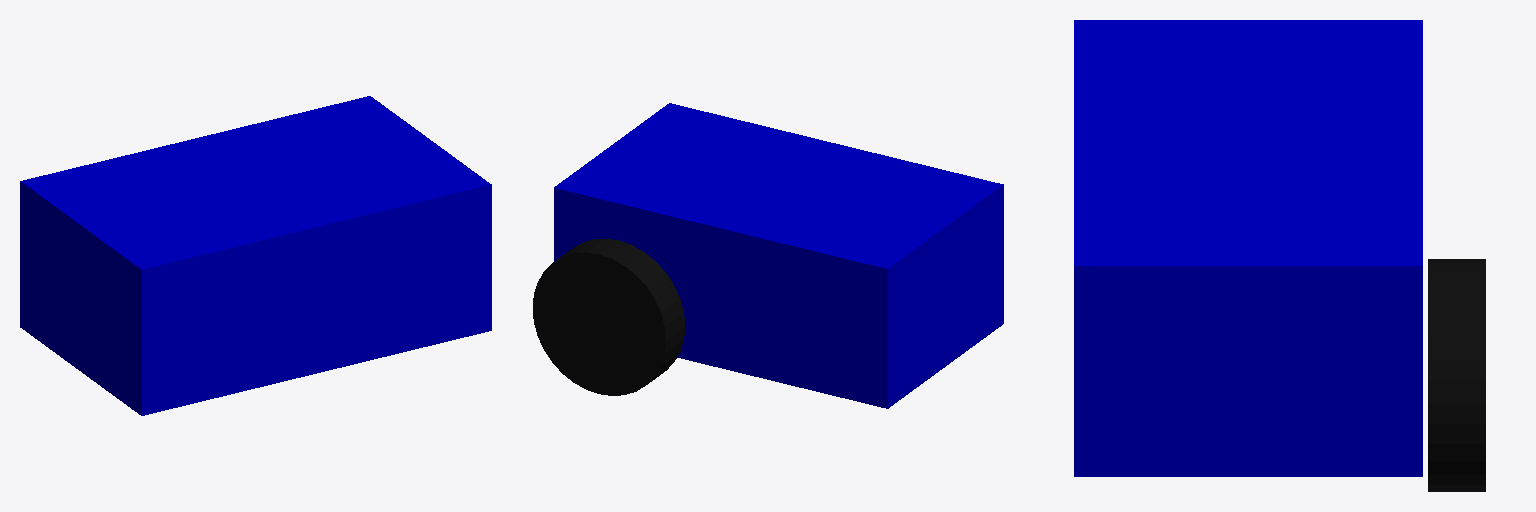
URDF robot description (pedagogical_robot):
<?xml version="1.0"?>
<!-- The root element of any URDF file is always <robot> with a unique name attribute -->
<robot name="pedagogical_robot">

  <!-- ==================================================================== -->
  <!-- 1. THE ROOT LINK (base_link)                                         -->
  <!-- Best Practice: Always have a root link with no parent.               -->
  <!-- ==================================================================== -->
  <link name="base_link">
    <!-- Visual: What the user sees in Rviz or Gazebo -->
    <visual>
      <origin xyz="0 0 0" rpy="0 0 0" /> <!-- Local offset of visual geometry -->
      <geometry>
        <box size="0.5 0.3 0.2" />       <!-- Simple box: length(X), width(Y), height(Z) -->
      </geometry>
      <material name="blue">
        <color rgba="0.0 0.0 0.8 1.0" /> <!-- RGBA color format (0.0 to 1.0 range) -->
      </material>
    </visual>

    <!-- Collision: Used by physics engines for contacts and obstacles -->
    <!-- Pro-Tip: Keep collision shapes simpler than visual meshes for performance! -->
    <collision>
      <origin xyz="0 0 0" rpy="0 0 0" />
      <geometry>
        <box size="0.5 0.3 0.2" />
      </geometry>
    </collision>

    <!-- Inertial: Physical mass properties (Required for dynamic simulation) -->
    <inertial>
      <origin xyz="0 0 0" rpy="0 0 0" /> <!-- Center of mass coordinates -->
      <mass value="5.0" />              <!-- Mass in kilograms (kg) -->
      <!-- Inertia Matrix (3x3): Measures resistance to rotational acceleration -->
      <inertia ixx="0.05" ixy="0.0" ixz="0.0" iyy="0.12" iyz="0.0" izz="0.14" />
    </inertial>
  </link>

  <!-- ==================================================================== -->
  <!-- 2. THE JOINT (Connecting base_link to a Wheel)                        -->
  <!-- Rule: Joints represent the spatial offset and movement capability.   -->
  <!-- ==================================================================== -->
  <!-- This joint connects "base_link" (parent) to "left_wheel" (child) -->
  <joint name="left_wheel_joint" type="continuous">
    <parent link="base_link" />
    <child link="left_wheel" />
    
    <!-- Origin: Where is the joint relative to the PARENT link's origin? -->
    <!-- xyz: Shift +0.15m in X (forward), +0.18m in Y (left), -0.05m in Z (down) -->
    <!-- rpy: No initial rotation (0 0 0) -->
    <origin xyz="0.15 0.18 -0.05" rpy="0 0 0" />
    
    <!-- Axis: Around what local coordinate axis does the joint rotate? -->
    <!-- x y z = 0 1 0 means the joint rotates purely around the Y-axis (the pitch axis) -->
    <axis xyz="0 1 0" />
  </joint>

  <!-- ==================================================================== -->
  <!-- 3. THE CHILD LINK (left_wheel)                                       -->
  <!-- This link's origin (0,0,0) is located EXACTLY at the joint's origin.  -->
  <!-- ==================================================================== -->
  <link name="left_wheel">
    <visual>
      <!-- We rotate the visual cylinder by 90 deg (1.5708 rad) around X-axis -->
      <!-- to align the wheel faces facing outwards (towards Y-direction) -->
      <origin xyz="0 0 0" rpy="1.5708 0 0" />
      <geometry>
        <cylinder radius="0.1" length="0.05" /> <!-- Cylinder: radius, length/thickness -->
      </geometry>
      <material name="black">
        <color rgba="0.1 0.1 0.1 1.0" />
      </material>
    </visual>

    <collision>
      <origin xyz="0 0 0" rpy="1.5708 0 0" />
      <geometry>
        <cylinder radius="0.1" length="0.05" />
      </geometry>
    </collision>

    <inertial>
      <origin xyz="0 0 0" rpy="1.5708 0 0" />
      <mass value="0.5" />
      <inertia ixx="0.0013" ixy="0.0" ixz="0.0" iyy="0.0013" iyz="0.0" izz="0.0025" />
    </inertial>
  </link>

</robot>

--- Render facts (derived) ---
3 views of the same robot in one strip: view 1: azimuth 30°, elevation 25°; view 2: azimuth 150°, elevation 25°; view 3: azimuth 270°, elevation 25° (orthographic).
Robot: pedagogical_robot — 2 links, 1 joints (1 continuous); root link base_link; default pose: all joints at 0.
Visible links, largest first — view 1: base_link; view 2: base_link, left_wheel; view 3: base_link, left_wheel.
Link boxes in pixels (bbox=[...]): base_link: bbox=[20, 96, 491, 415]; base_link: bbox=[554, 103, 1003, 408]; left_wheel: bbox=[533, 239, 684, 395]; base_link: bbox=[1074, 20, 1422, 476]; left_wheel: bbox=[1428, 259, 1485, 491].
Size in the robot's own frame: 0.5 by 0.355 by 0.25 metres.
Geometry: primitives only (box / cylinder / sphere), no mesh files.
